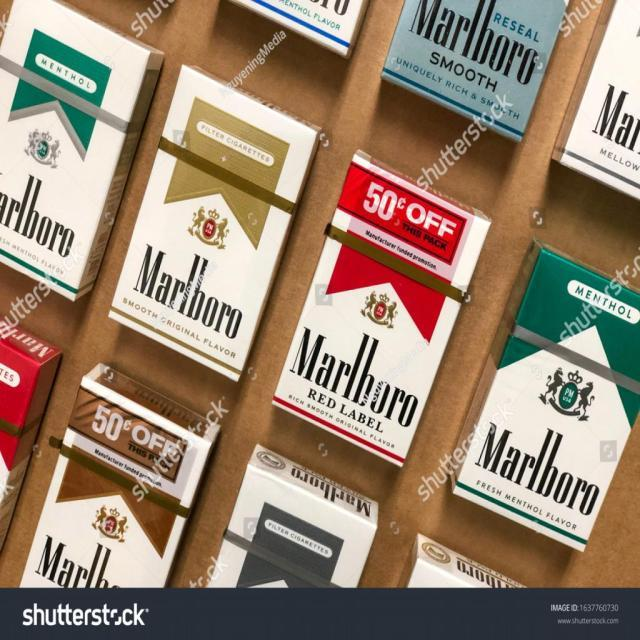smoking: (86, 61, 336, 383), (257, 148, 505, 470), (6, 357, 229, 632), (0, 0, 170, 304), (205, 443, 391, 633), (375, 0, 570, 141), (554, 0, 640, 198), (0, 317, 59, 546), (401, 535, 523, 616), (235, 0, 365, 54), (0, 0, 1, 1)
